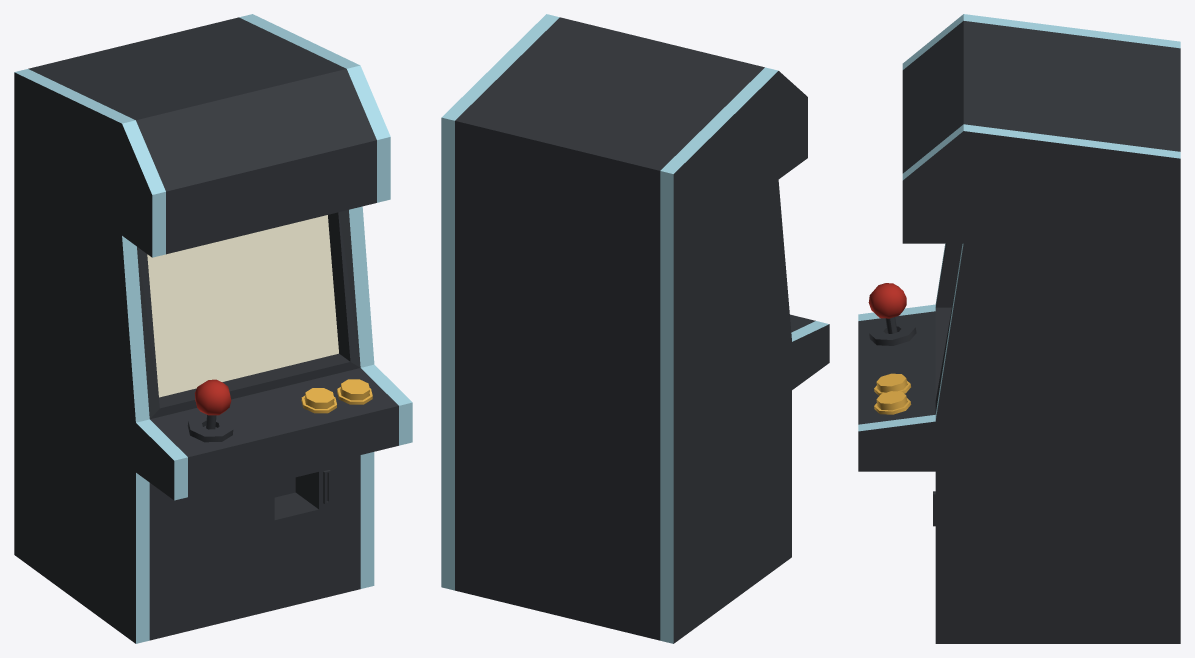
The model's file is 41_prop_game machine.FBX.
3 views of the same model, side by side, from view 1: azimuth 30°, elevation 25°; view 2: azimuth 150°, elevation 25°; view 3: azimuth 270°, elevation 25° (orthographic). The views are drawn at different scales.
Visible parts, largest first — view 1: prop_game machine, prop_game machine(light); view 2: prop_game machine; view 3: prop_game machine.
Part boxes in pixels (x1,y1,x2,y2): prop_game machine: (14, 14, 412, 643); prop_game machine(light): (147, 215, 338, 397); prop_game machine: (441, 14, 829, 643); prop_game machine: (858, 14, 1180, 643).
Size of the model in its own units: 45.15 by 92.28 by 52.5.
